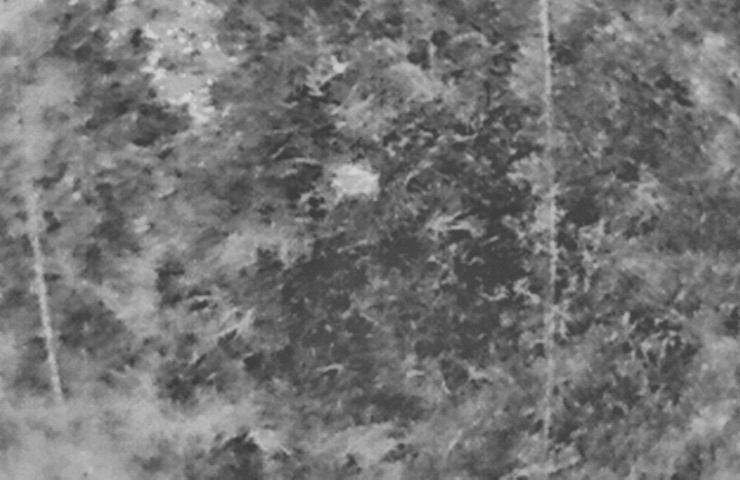landmines: (329, 157, 385, 203)
